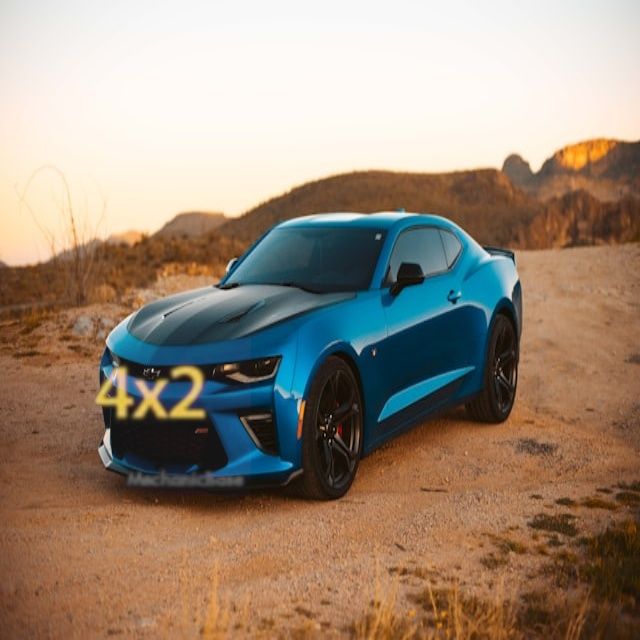symbol: (48, 293, 251, 496), (376, 2, 567, 193)
